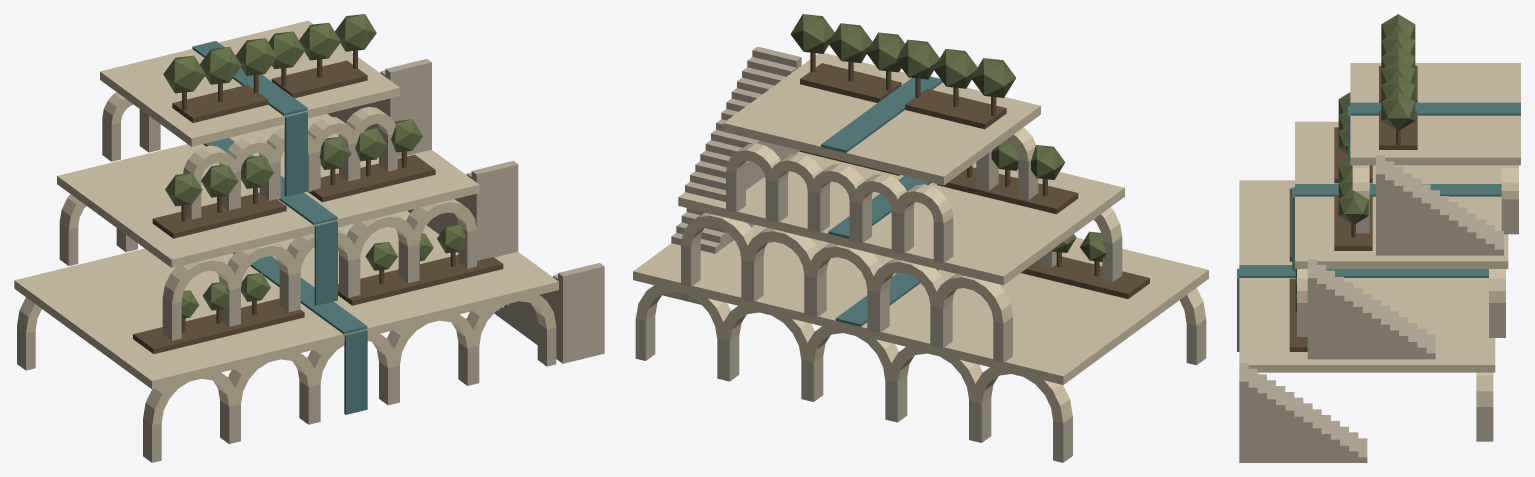
The model's file is cascade-gardens.glb.
The picture shows the model from 3 angles, left to right: view 1: azimuth 30°, elevation 25°; view 2: azimuth 150°, elevation 25°; view 3: azimuth 270°, elevation 25°; orthographic projection. The views are drawn at different scales.
Parts seen in each view (by area): view 1: pale-surfaces, stone-surfaces, leaves-surfaces, earth-surfaces, water-surfaces, timber-surfaces; view 2: pale-surfaces, stone-surfaces, leaves-surfaces, earth-surfaces, water-surfaces, timber-surfaces; view 3: pale-surfaces, stone-surfaces, water-surfaces, leaves-surfaces, earth-surfaces.
Boxes of the visible parts, left/top/right/bottom form: pale-surfaces: left=14, top=20, right=558, bottom=425; stone-surfaces: left=17, top=59, right=604, bottom=462; leaves-surfaces: left=163, top=14, right=466, bottom=318; earth-surfaces: left=133, top=60, right=503, bottom=353; water-surfaces: left=192, top=41, right=367, bottom=414; timber-surfaces: left=181, top=50, right=455, bottom=332; pale-surfaces: left=633, top=53, right=1208, bottom=423; stone-surfaces: left=635, top=46, right=1206, bottom=462; leaves-surfaces: left=790, top=14, right=1106, bottom=261; earth-surfaces: left=799, top=63, right=1149, bottom=298; water-surfaces: left=821, top=76, right=942, bottom=326; timber-surfaces: left=810, top=52, right=1099, bottom=276; pale-surfaces: left=1239, top=63, right=1520, bottom=406; stone-surfaces: left=1239, top=155, right=1518, bottom=462; water-surfaces: left=1237, top=102, right=1520, bottom=351; leaves-surfaces: left=1295, top=14, right=1415, bottom=311; earth-surfaces: left=1289, top=66, right=1417, bottom=351.
Size of the model in its own units: 22.8 by 15.15 by 13.31.
